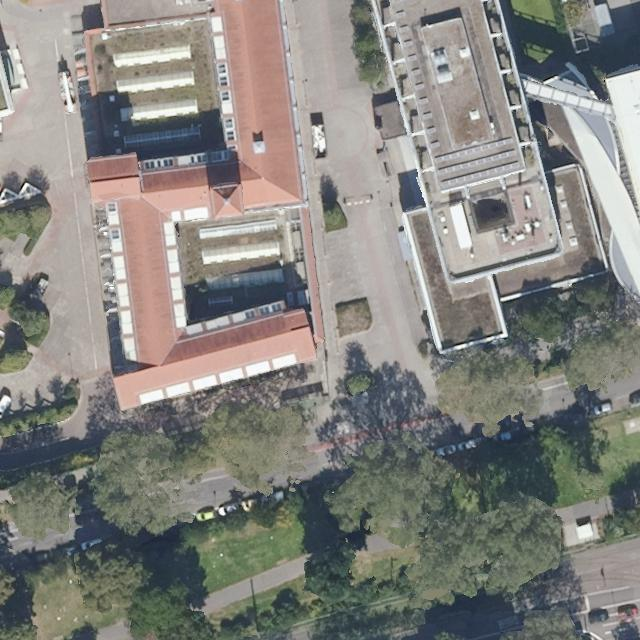PV: (438, 159, 522, 190), (434, 135, 516, 166), (436, 148, 520, 178), (398, 24, 410, 37), (403, 38, 413, 51), (395, 9, 405, 20), (418, 95, 427, 105), (412, 67, 421, 76), (426, 126, 435, 135), (423, 112, 431, 122), (415, 83, 424, 91), (432, 141, 440, 149), (408, 54, 416, 62)
